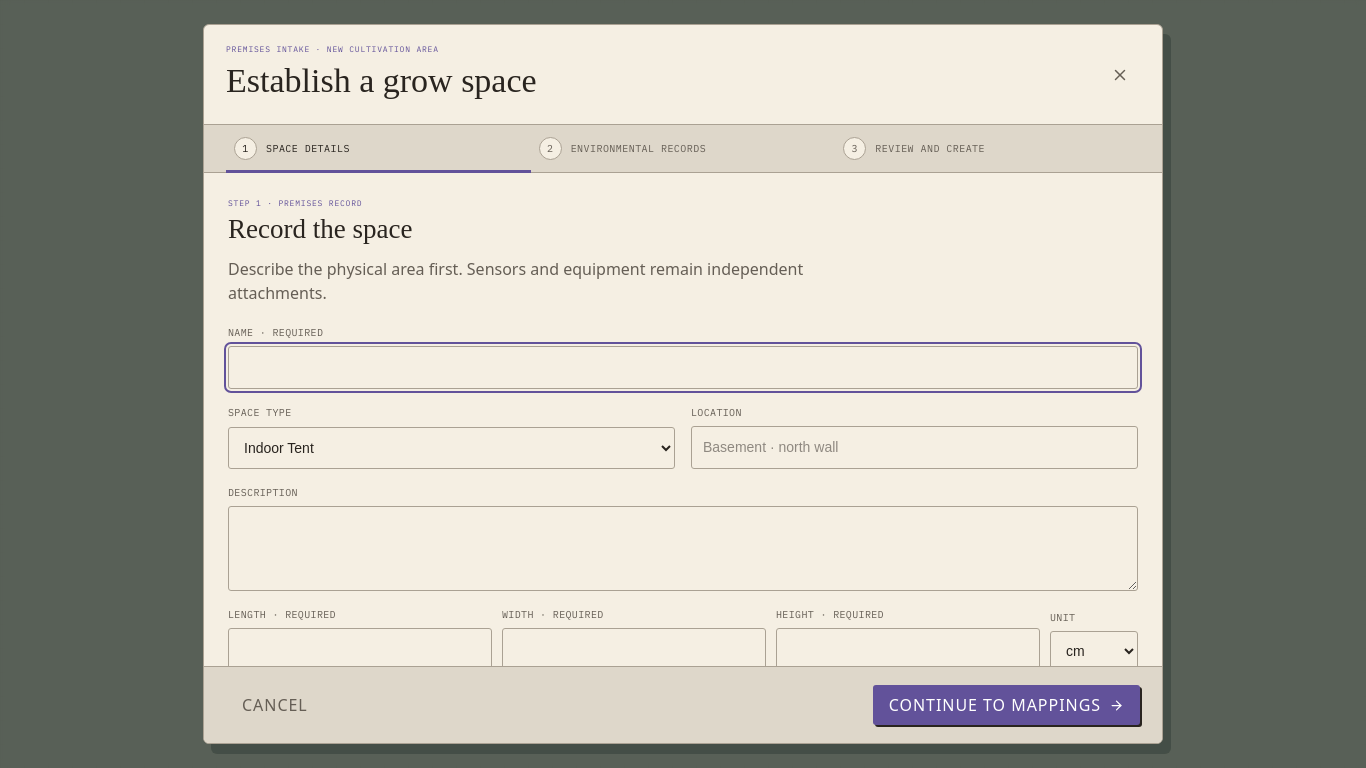
Test case: GrowSpaceWizard › allows Outdoor without a height
This screenshot has width=1366, height=768.
Step 1. Type "South plot" into the field labelled "Name · required" → point(683, 367), box [228,346,1138,388]
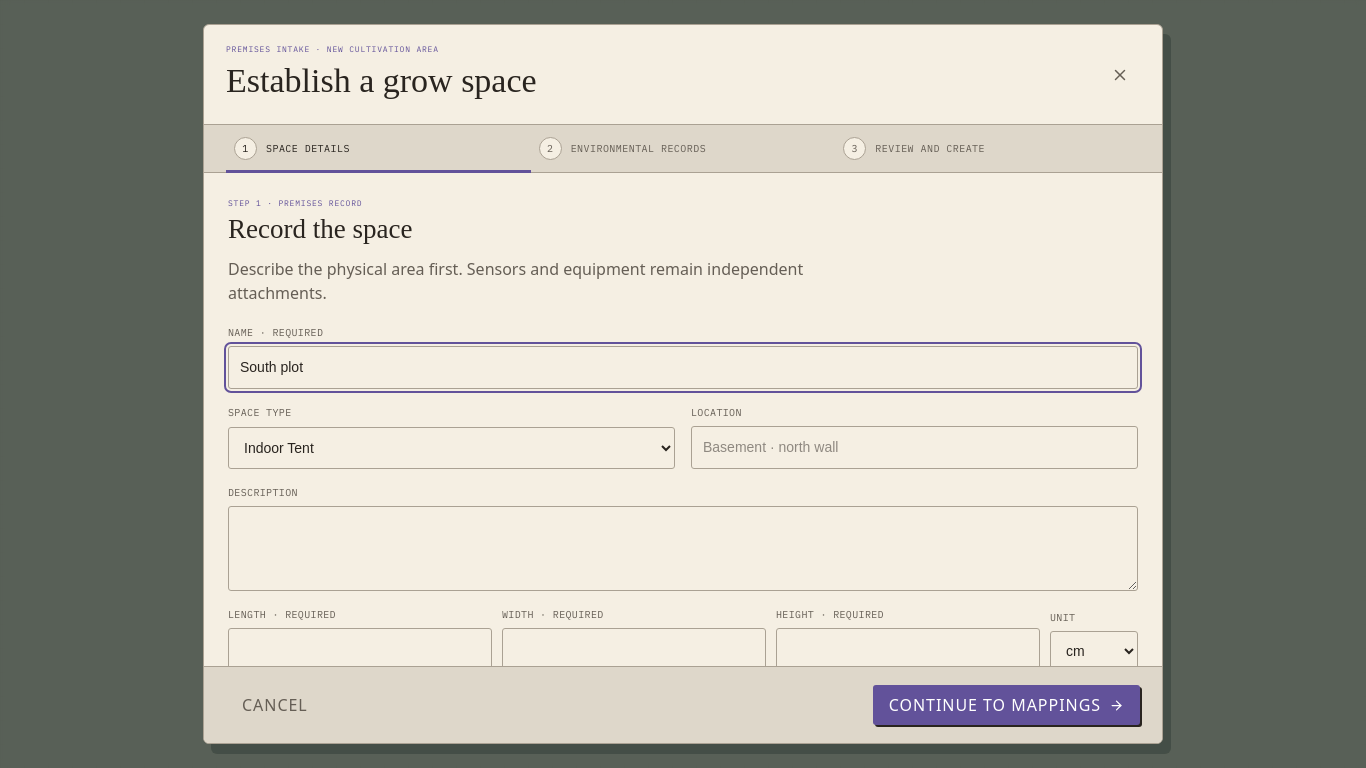
Step 2. Select "Outdoor" in the dropdown labelled "Space type" → point(452, 448), box [228,427,675,468]
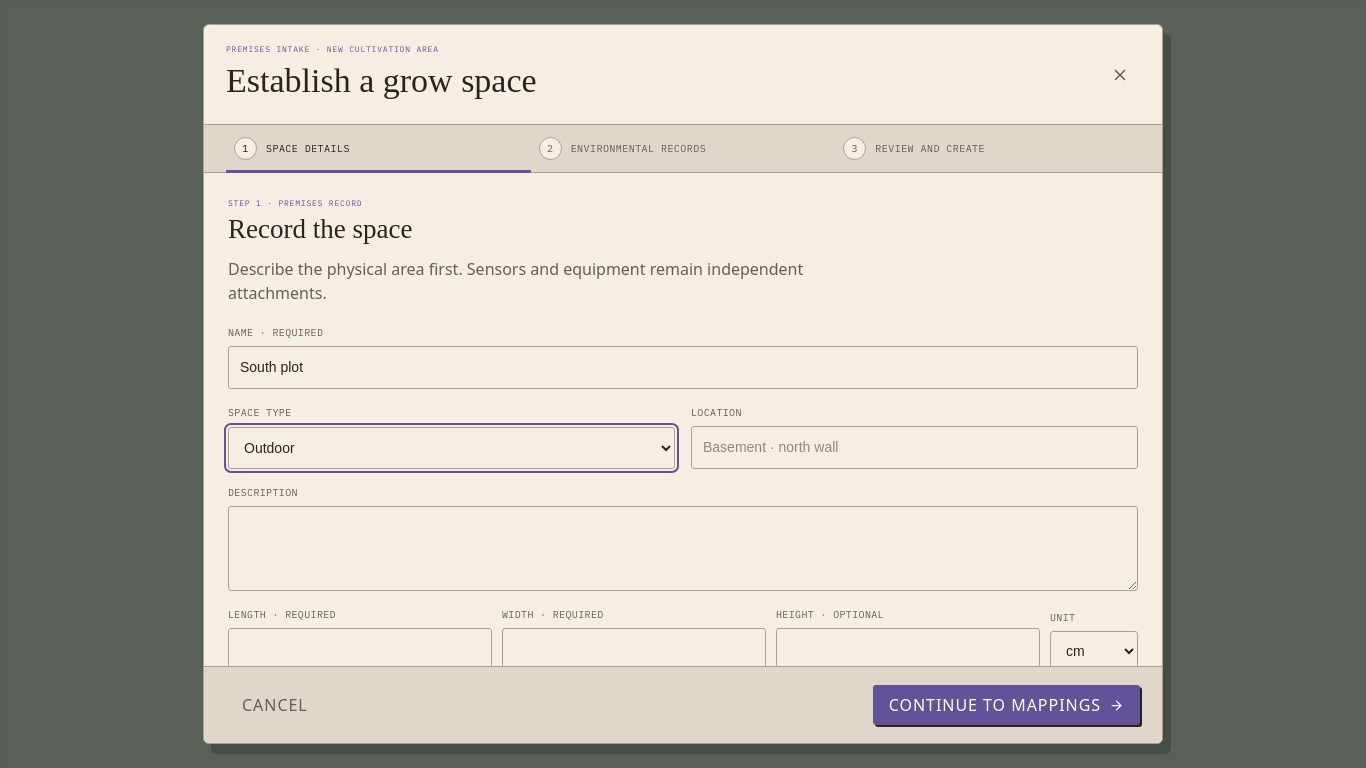
Step 3. Type "200" into the field labelled "Length · required" → point(360, 649), box [228,628,492,670]
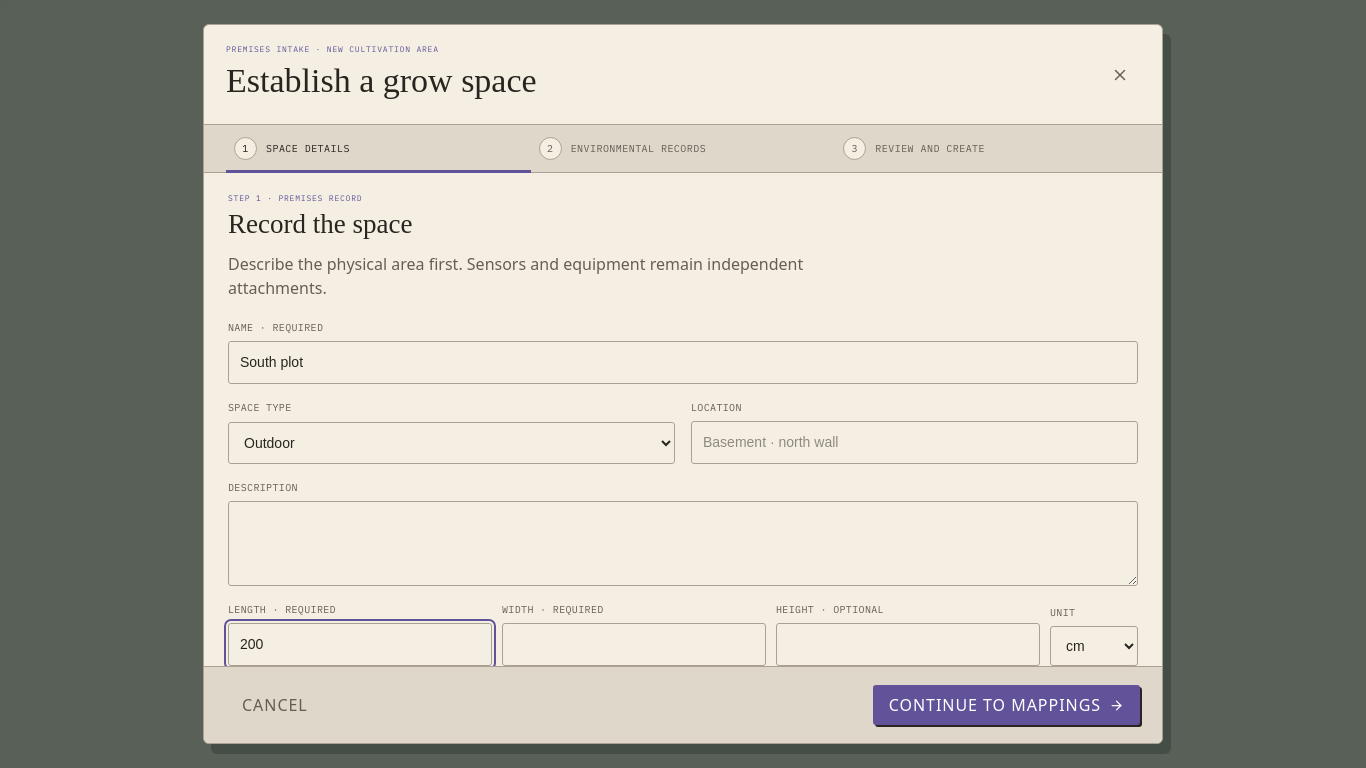
Step 4. Type "300" into the field labelled "Width · required" → point(634, 644), box [502,622,766,666]
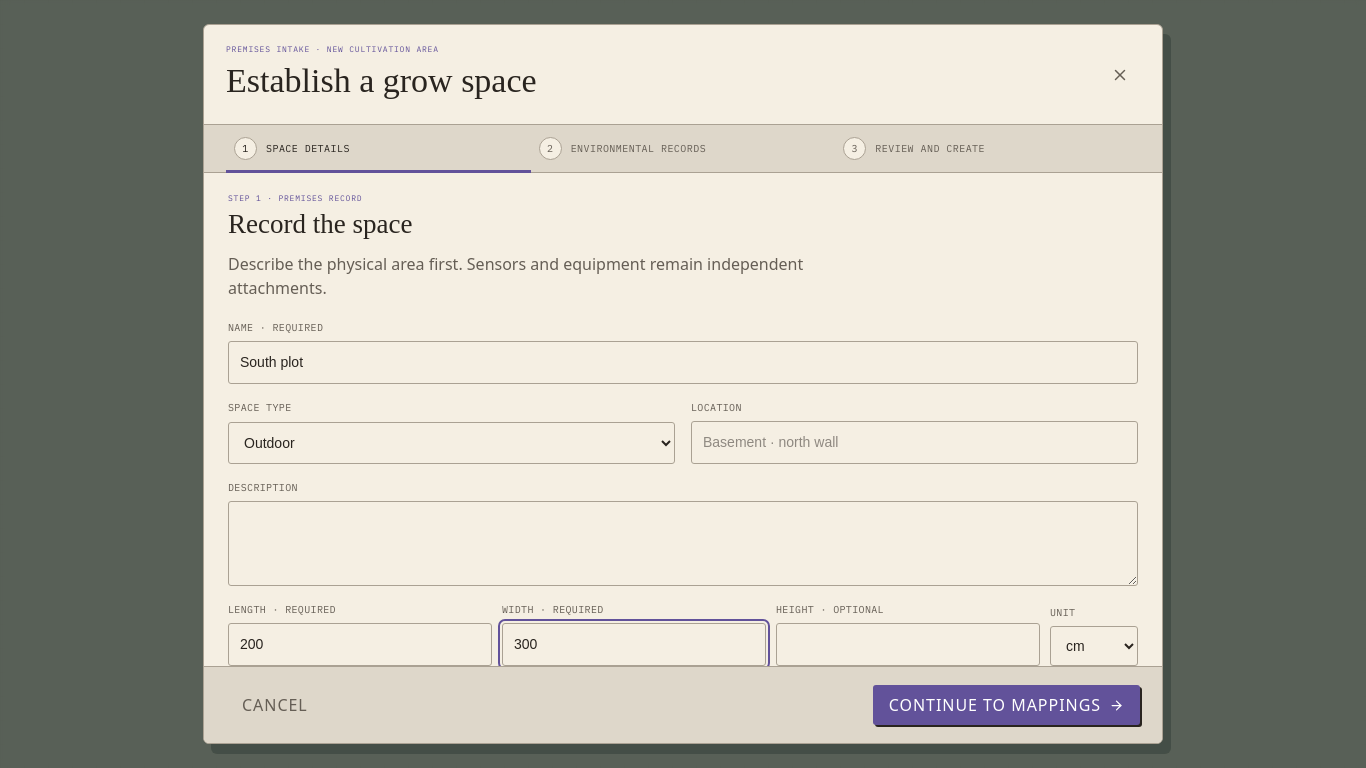
Step 5. Click the button "Continue to mappings" → point(1006, 705), box [873,685,1140,725]
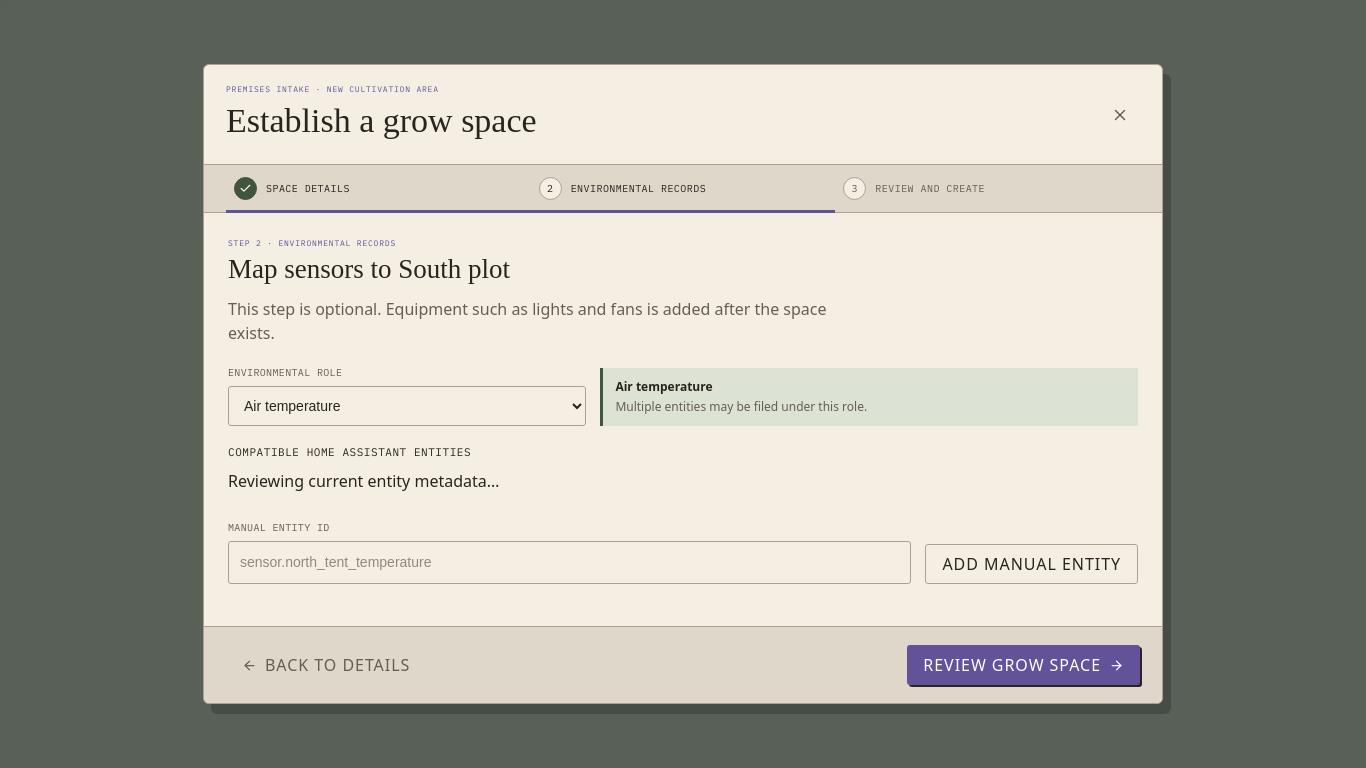
Expected: the heading "Map sensors to South plot" is shown, [228,254,510,284]
